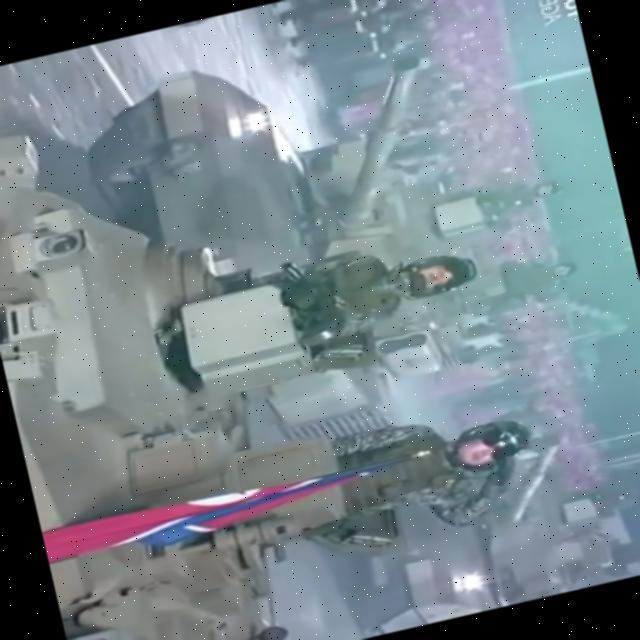north tank: (0, 8, 393, 640), (59, 0, 523, 476), (322, 422, 625, 640)
